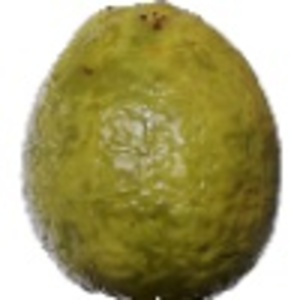goiaba: (12, 2, 287, 299)
